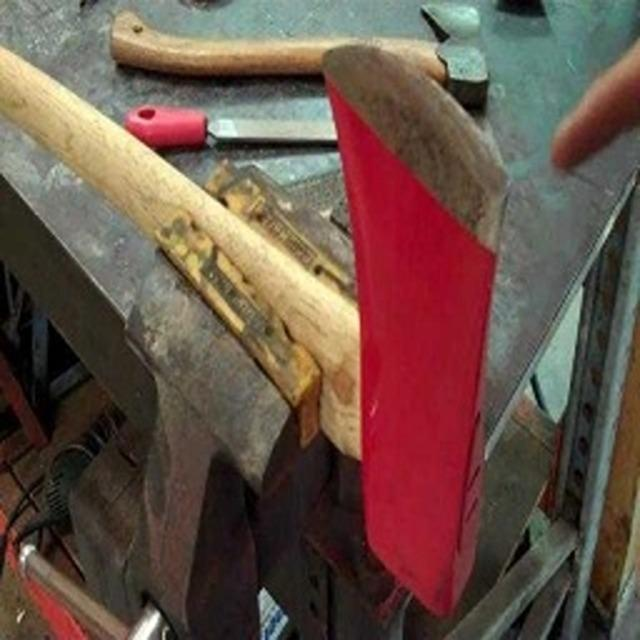ax: (2, 27, 528, 623)
